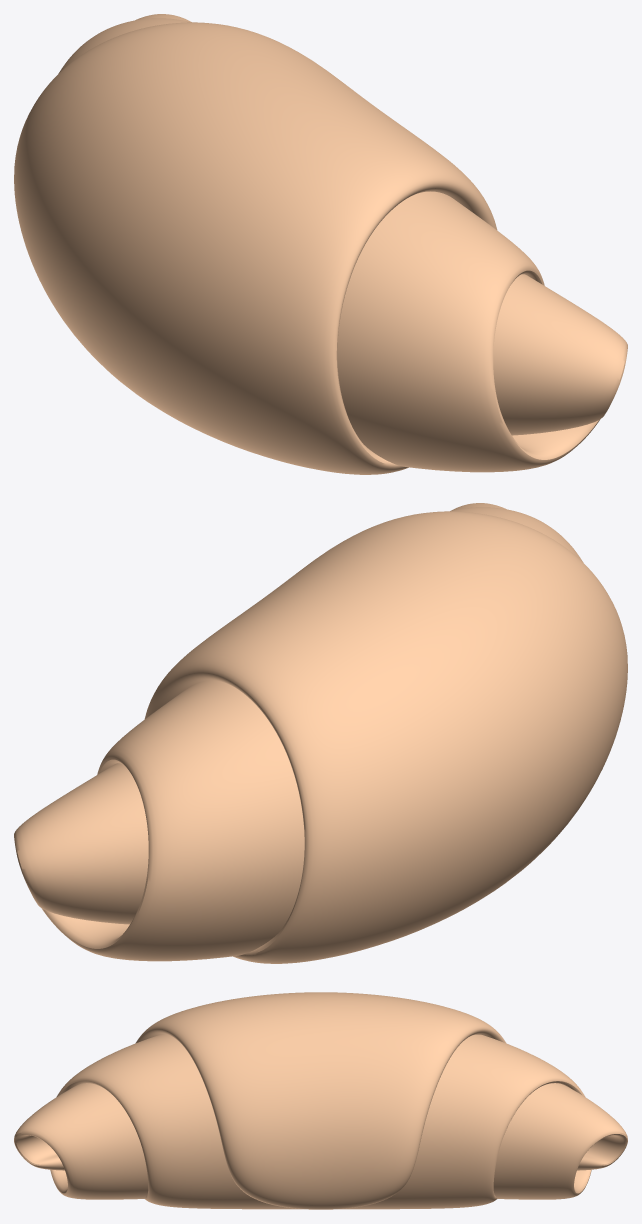
The model's file is RawCroissant.fbx.
3 renders of one model, top to bottom at view 1: azimuth 30°, elevation 25°; view 2: azimuth 150°, elevation 25°; view 3: azimuth 270°, elevation 25°, orthographic. The views are drawn at different scales.
Parts seen in each view (by area): view 1: Plane; view 2: Plane; view 3: Plane.
Part boxes in pixels (left/top/right/bottom): Plane: left=14, top=14, right=627, bottom=474; Plane: left=14, top=503, right=627, bottom=963; Plane: left=14, top=992, right=627, bottom=1209.
Size of the model in its own units: 124 by 50.97 by 42.62.
